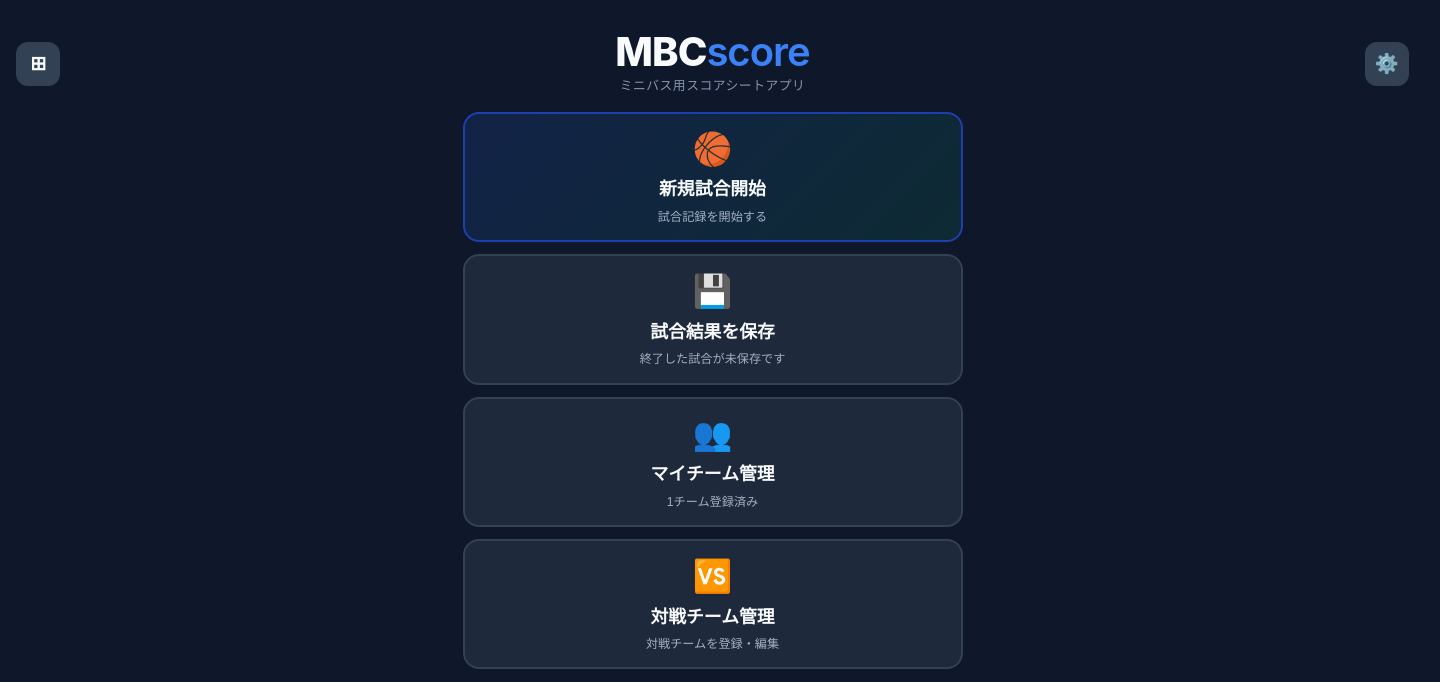
App: 試合終了時の保存 › 保存できたら履歴に残り、中断セッションを消してホームへ戻る
Click the text "試合結果を保存" at (713, 330), box [650,317,775,343]
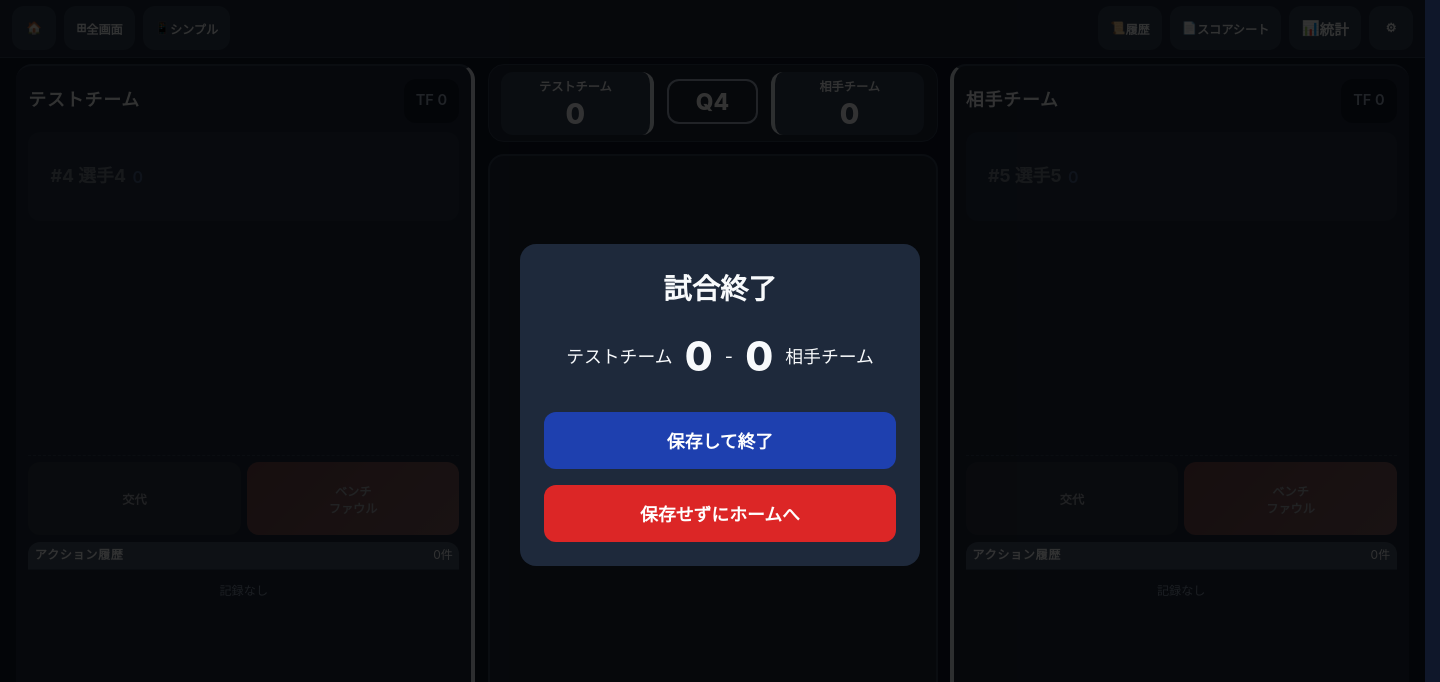
Click the button "保存して終了" at (720, 440), box [544,412,896,469]
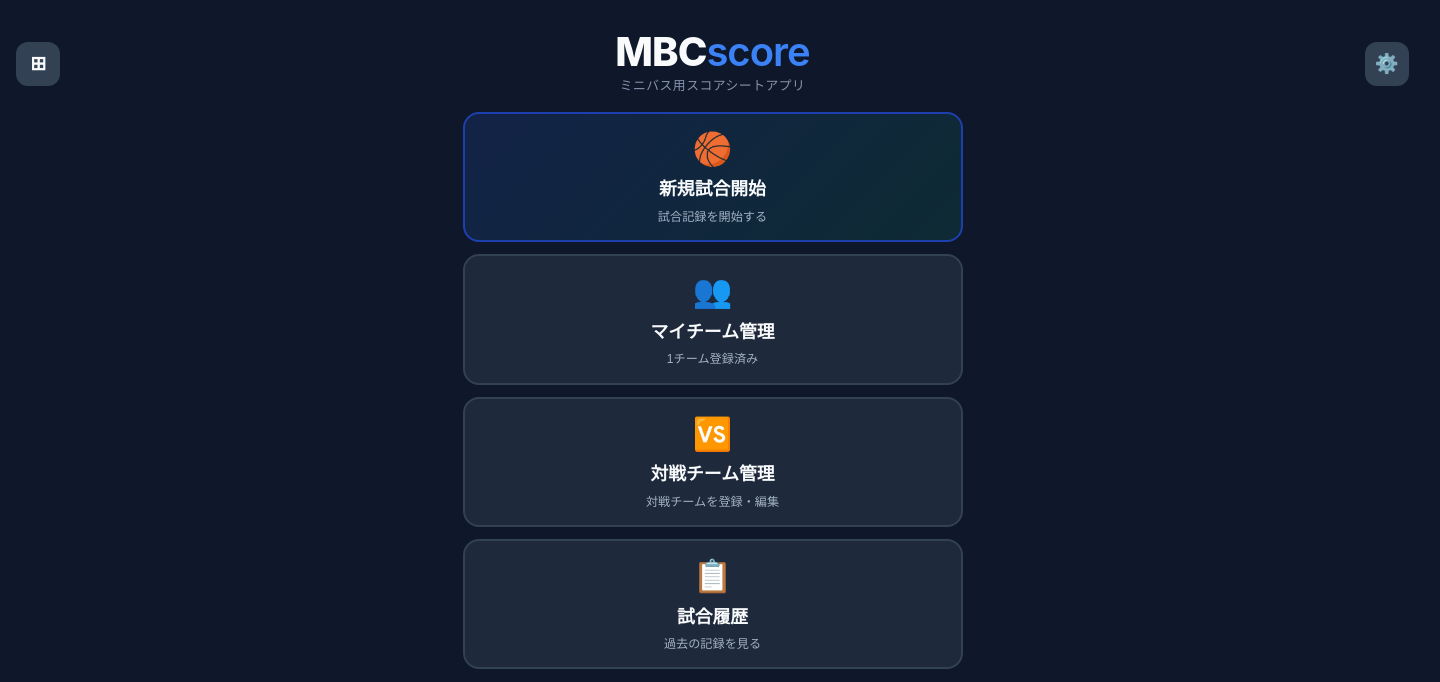
Expected: the text "新規試合開始" is shown, [659,174,766,200]
